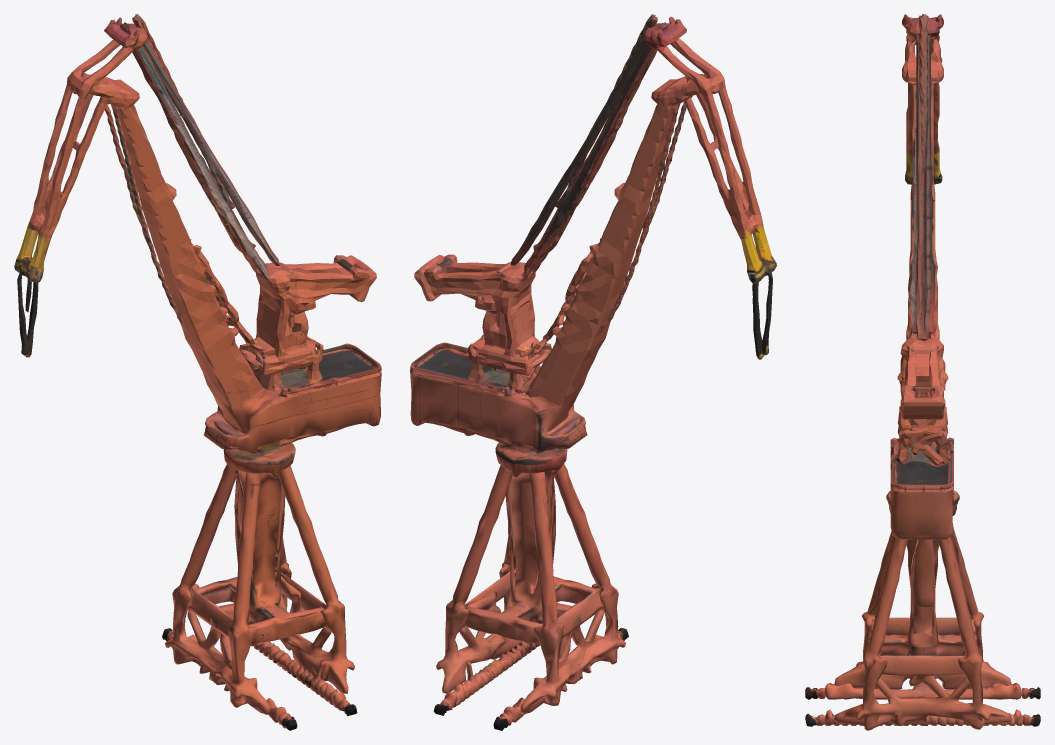
File: crane-swan.glb
The picture shows the model from 3 angles, left to right: view 1: azimuth 30°, elevation 25°; view 2: azimuth 150°, elevation 25°; view 3: azimuth 270°, elevation 25°; orthographic projection. The views are drawn at different scales.
Parts seen in each view (by area): view 1: SlewMesh, Body; view 2: SlewMesh, Body; view 3: Body, SlewMesh.
Boxes of the visible parts, left/top/right/bottom form: SlewMesh: left=14, top=14, right=381, bottom=406; Body: left=162, top=371, right=381, bottom=730; SlewMesh: left=410, top=14, right=776, bottom=405; Body: left=410, top=370, right=628, bottom=730; Body: left=805, top=438, right=1040, bottom=730; SlewMesh: left=890, top=14, right=953, bottom=492.
Bounding box in the file's own units: 27.48 × 52 × 17.23.
Materials: 1 (1 with a texture image).
